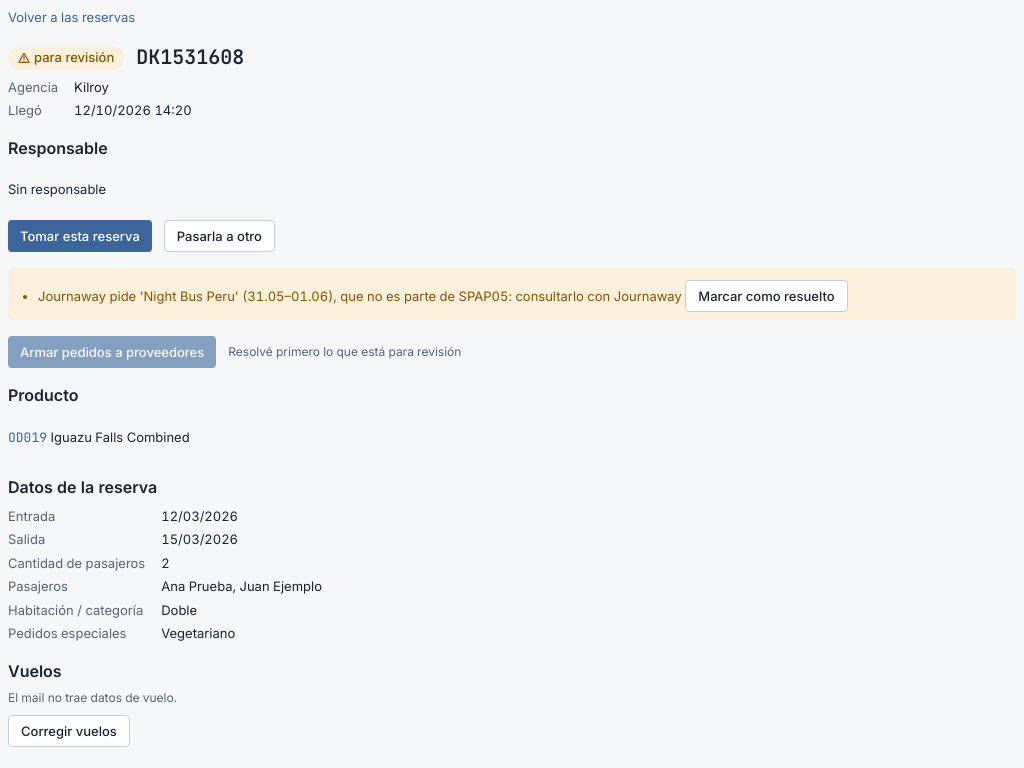
Test: M3-39 fila 1 — 'Marcar como resuelto' en cada motivo, con nota obligatoria › si falla, lo dice en llano y se puede reintentar
The width and height of the screenshot is (1024, 768).
Click the button "Marcar como resuelto".
click(766, 296)  # box x1=685 y1=280 x2=848 y2=312
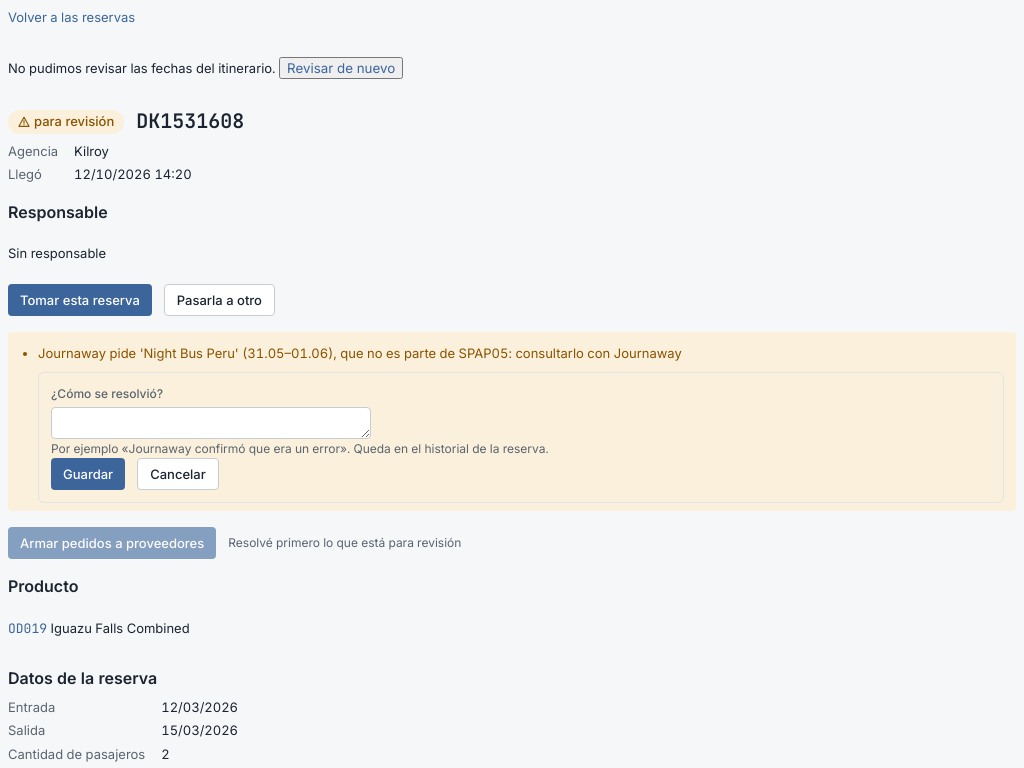
Type "Journaway confirmó que era un error" into the text box labelled "¿Cómo se resolvió?".
click(211, 423); type("Journaway confirmó que era un error")  # box x1=51 y1=407 x2=371 y2=439
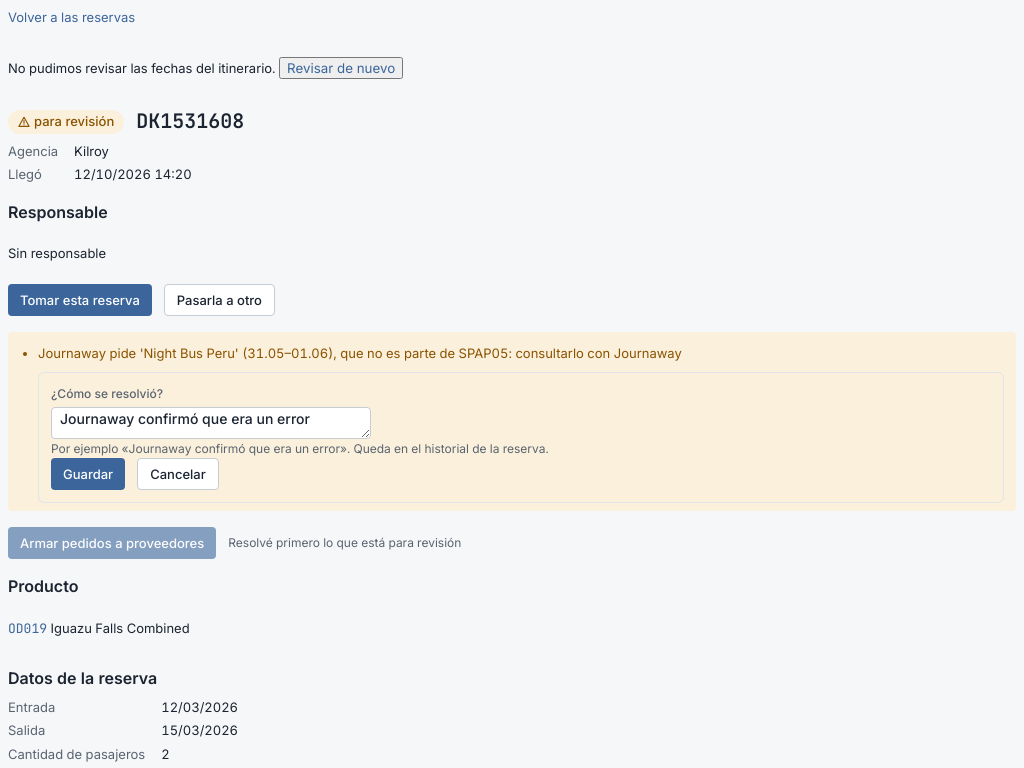
Click the button "Guardar".
click(88, 474)  # box x1=51 y1=458 x2=125 y2=490
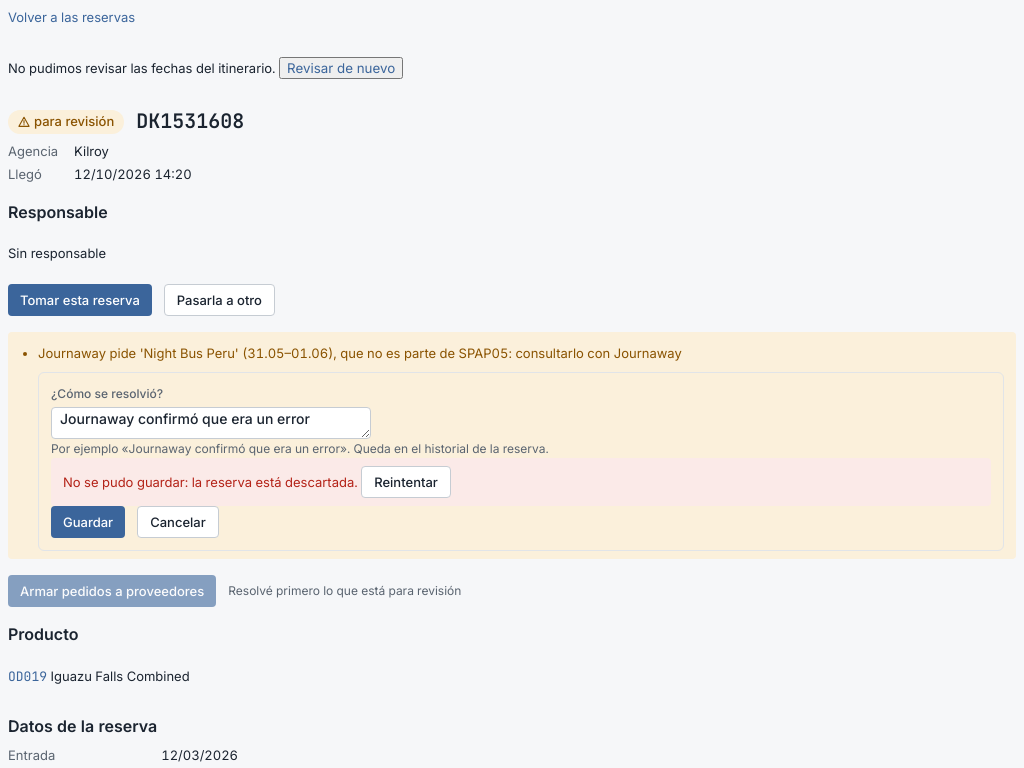
Check: the button "Reintentar" is shown, box x1=361 y1=466 x2=451 y2=498
